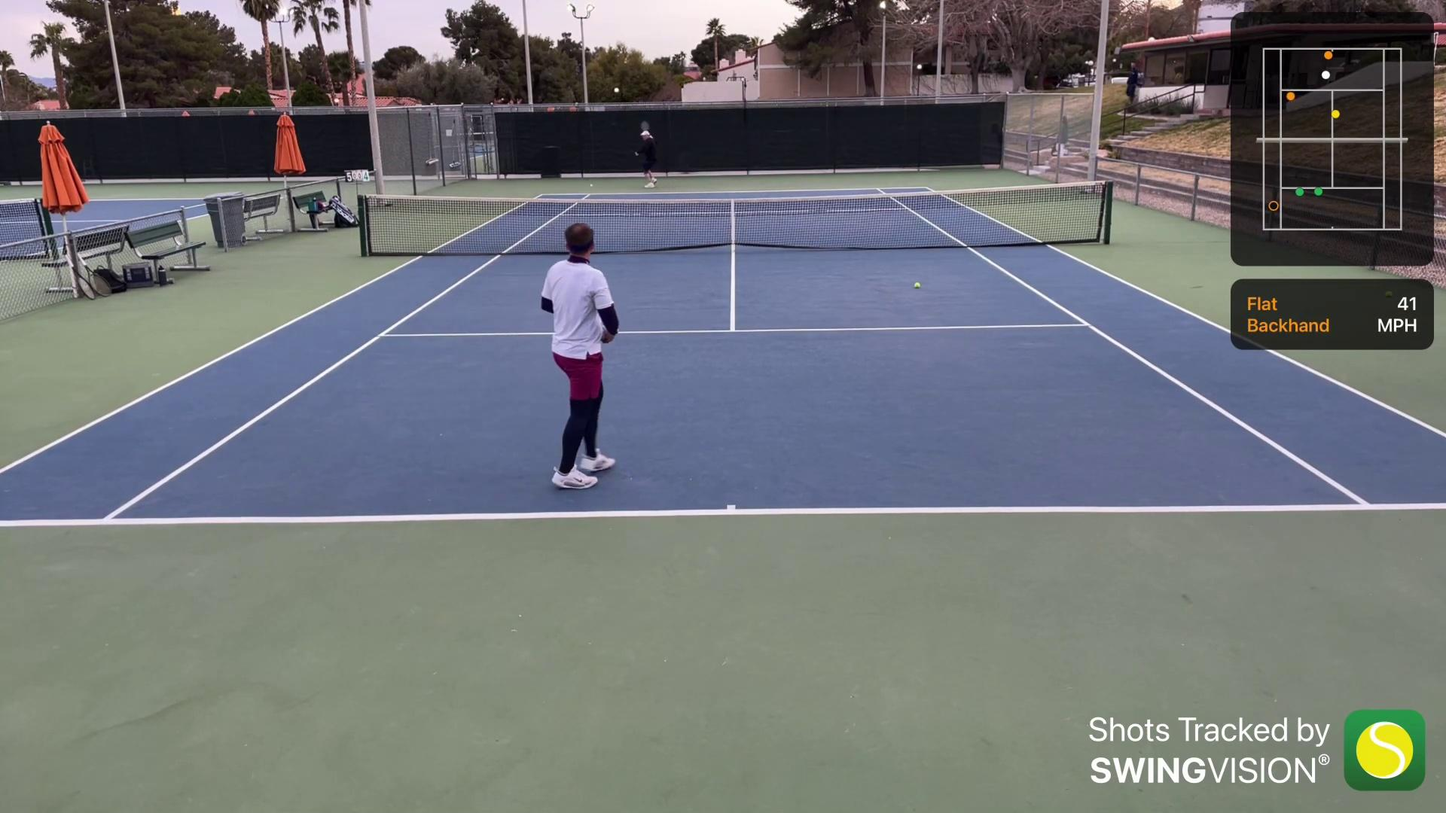ball: (913, 281, 922, 290), (587, 182, 594, 189)
